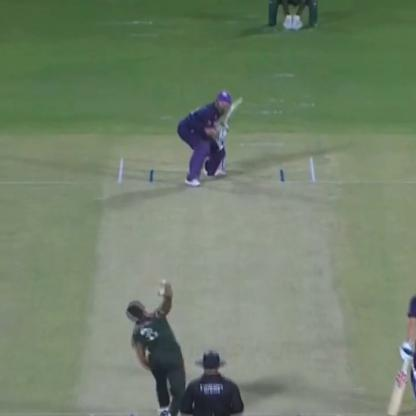ball: (157, 277, 169, 287), (158, 291, 166, 298)
bat: (221, 90, 245, 128)
pitch: (72, 154, 338, 415)
